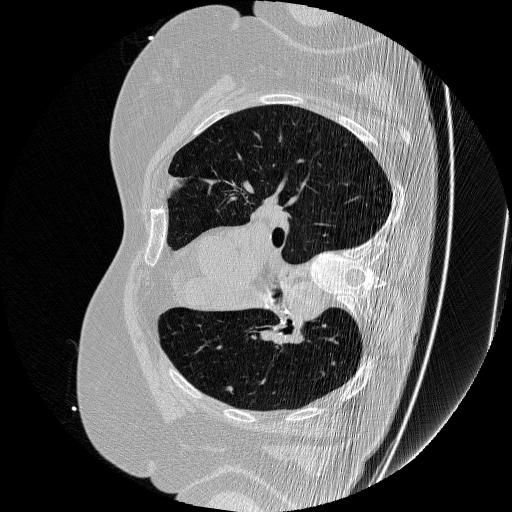nodule: (224, 382, 236, 394)
